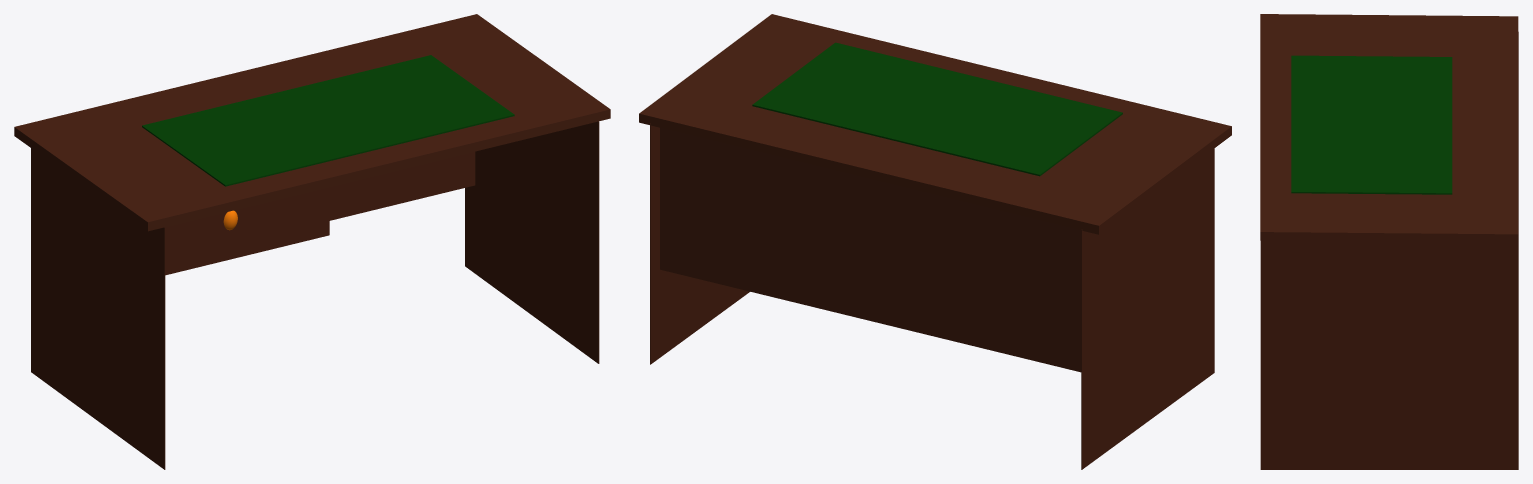
File: desk.fbx
3 renders of one model, left to right at view 1: azimuth 30°, elevation 25°; view 2: azimuth 150°, elevation 25°; view 3: azimuth 270°, elevation 25°, orthographic. The views are drawn at different scales.
Visible parts, largest first — view 1: Cube_3, Cube_1, Cube_4, Cube_1_1, Cube_6, Cube_2; view 2: Cube_2, Cube_3, Cube_1, Cube_4, Cube_1_1; view 3: Cube_1_1, Cube_3, Cube_4.
Part boxes in pixels (x1,y1,x2,y2): Cube_3: (14, 14, 610, 231); Cube_1: (31, 148, 165, 469); Cube_4: (142, 55, 514, 186); Cube_1_1: (465, 121, 599, 363); Cube_6: (165, 187, 329, 275); Cube_2: (329, 151, 475, 220); Cube_2: (660, 128, 1081, 372); Cube_3: (639, 14, 1231, 234); Cube_1: (1081, 148, 1214, 469); Cube_4: (752, 42, 1122, 176); Cube_1_1: (650, 123, 749, 364); Cube_1_1: (1260, 236, 1518, 469); Cube_3: (1260, 14, 1518, 242); Cube_4: (1291, 55, 1452, 194).
Size of the model in its own units: 160 by 84.09 by 80.16.
